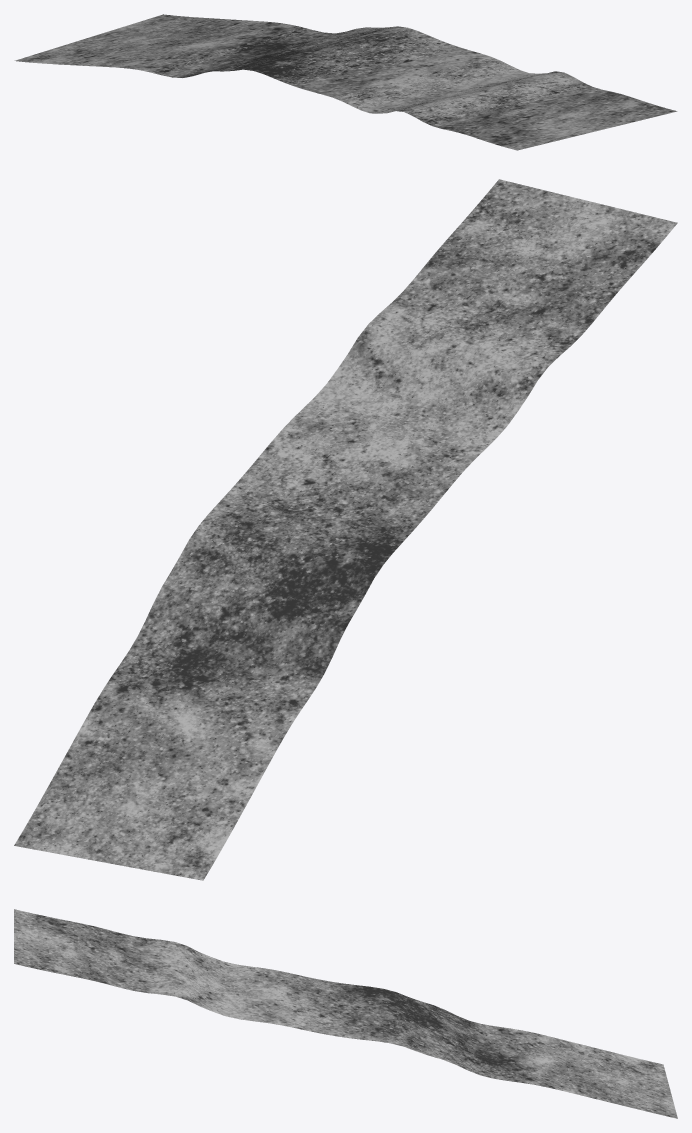
The model's file is level_final.fbx.
3 renders of one model, top to bottom at view 1: azimuth 30°, elevation 25°; view 2: azimuth 150°, elevation 25°; view 3: azimuth 270°, elevation 25°, orthographic. The views are drawn at different scales.
Visible parts, largest first — view 1: pCube1; view 2: pCube1; view 3: pCube1.
Boxes of the visible parts, x1,y1,x2,y2 form: pCube1: (14, 14, 677, 150); pCube1: (14, 179, 677, 880); pCube1: (14, 909, 677, 1118).
Size of the model in its own units: 412 by 468 by 1672.
Materials: 1 (1 with a texture image).
